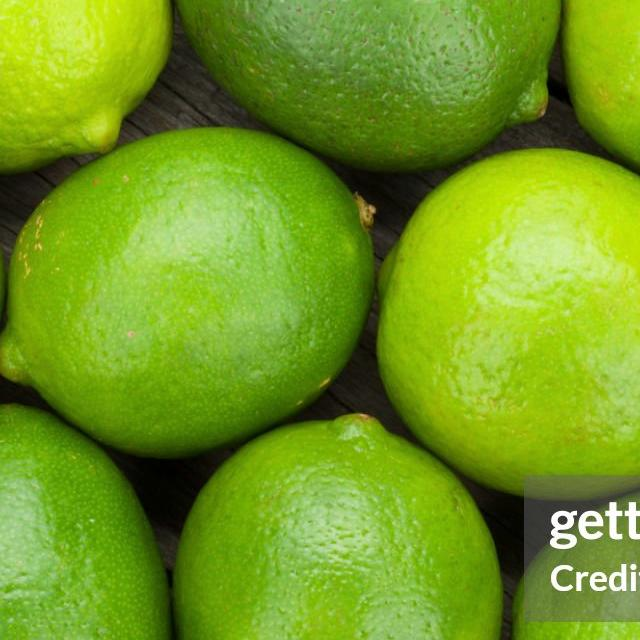lime: (379, 151, 640, 498), (176, 411, 506, 640)
